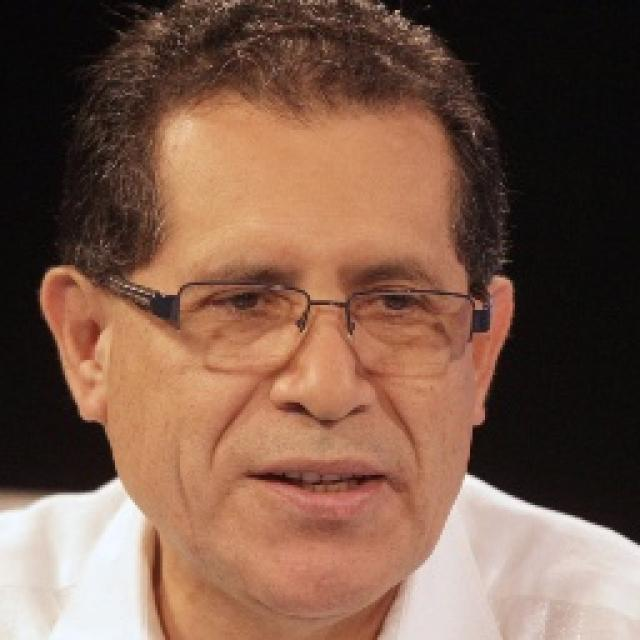earlobe: (39, 265, 111, 423), (466, 275, 514, 429)
